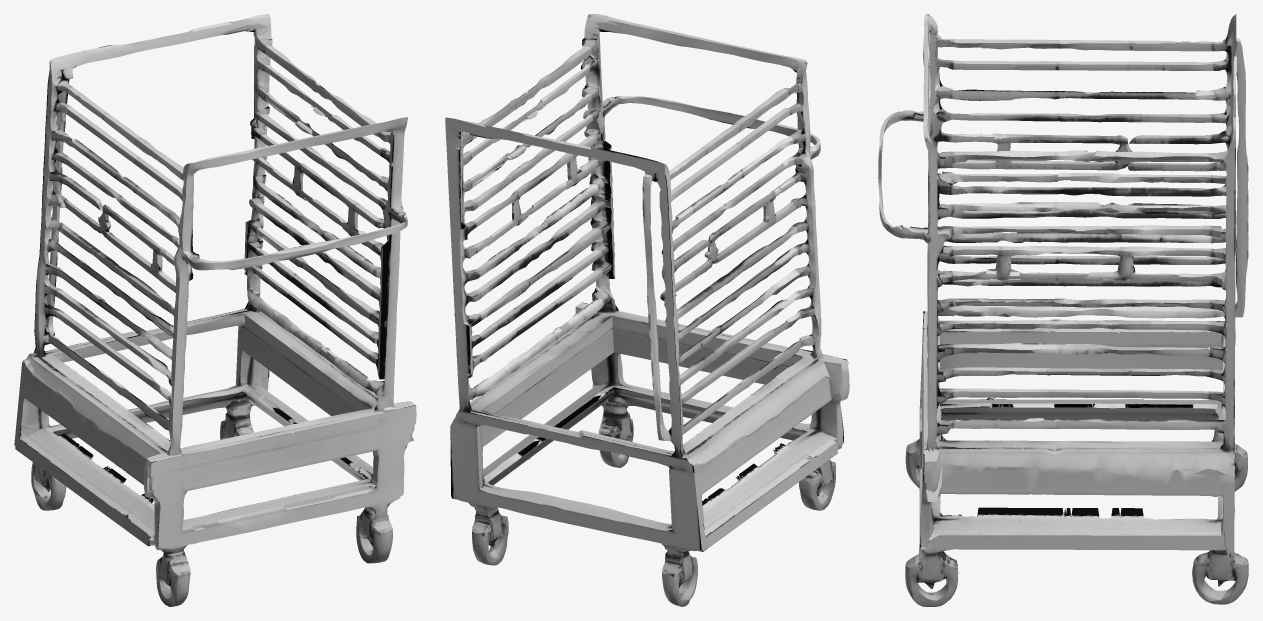
3 renders of one model, left to right at view 1: azimuth 30°, elevation 25°; view 2: azimuth 150°, elevation 25°; view 3: azimuth 270°, elevation 25°, orthographic. The views are drawn at different scales.
Size of the model in its own units: 0.791 by 1.26 by 0.857.
1 material, 1 textured.
